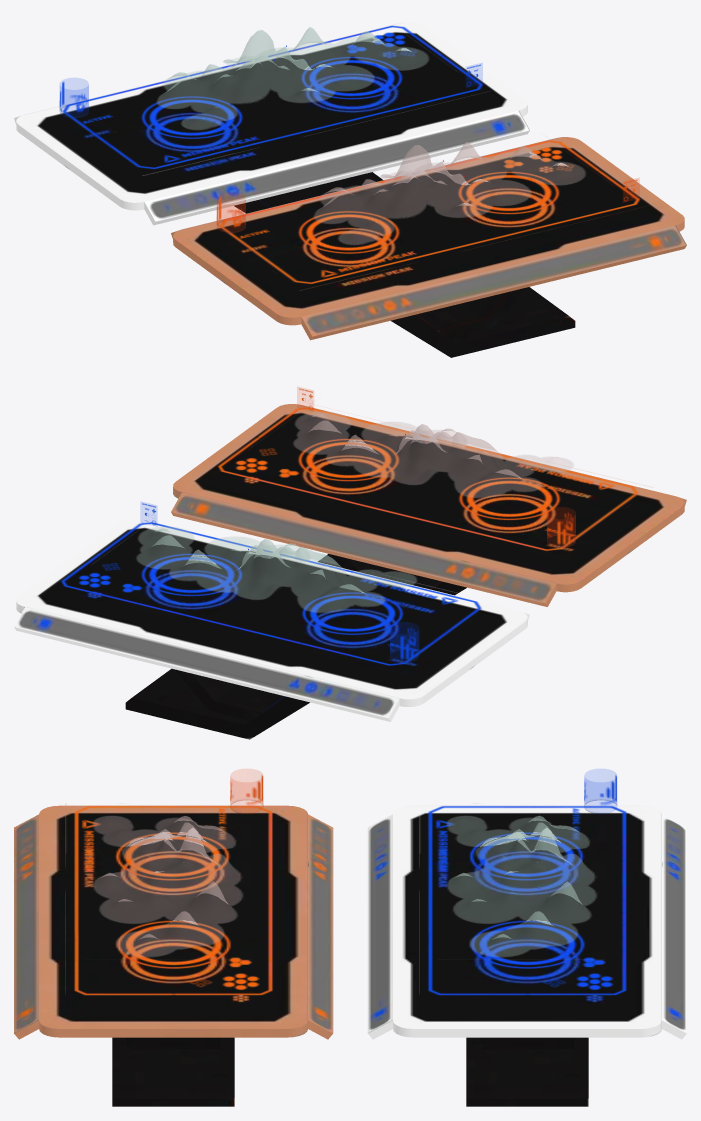
The model's file is hologram-table.glb.
The picture shows the model from 3 angles, top to bottom: view 1: azimuth 30°, elevation 25°; view 2: azimuth 150°, elevation 25°; view 3: azimuth 270°, elevation 25°; orthographic projection. The views are drawn at different scales.
Parts seen in each view (by area): view 1: HT1_T1_tex2_0, HT_T1_tex1_0; view 2: HT_T1_tex1_0, HT1_T1_tex2_0; view 3: HT1_T1_tex2_0, HT_T1_tex1_0.
Part boxes in pixels (<box>): HT1_T1_tex2_0: <box>171,137,686,357</box>; HT_T1_tex1_0: <box>14,22,529,225</box>; HT_T1_tex1_0: <box>14,502,529,739</box>; HT1_T1_tex2_0: <box>171,387,686,606</box>; HT1_T1_tex2_0: <box>14,769,333,1106</box>; HT_T1_tex1_0: <box>367,769,686,1106</box>.
Size of the model in its own units: 2.62 by 1.15 by 3.34.
2 materials, 2 textured.
